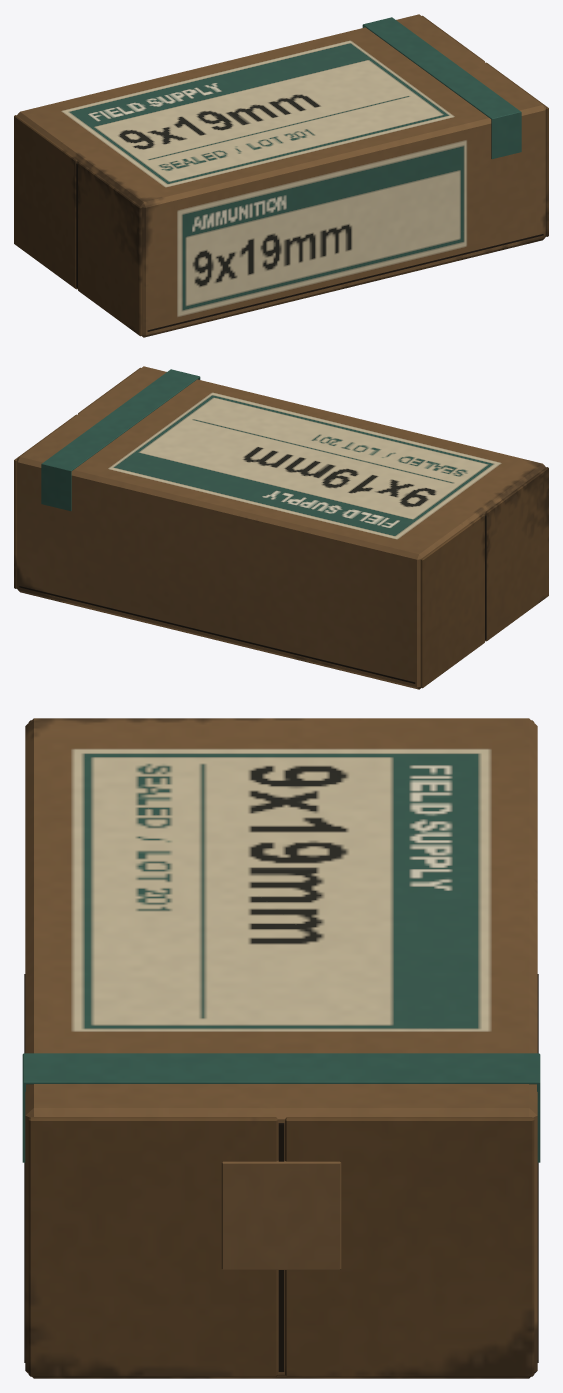
File: ammo_9x19.glb
3 views of the same model, one above another, from view 1: azimuth 30°, elevation 25°; view 2: azimuth 150°, elevation 25°; view 3: azimuth 270°, elevation 25° (orthographic). The views are drawn at different scales.
Visible parts, largest first — view 1: ammo_9x19_Mesh; view 2: ammo_9x19_Mesh; view 3: ammo_9x19_Mesh.
Part boxes in pixels (left/top/right/bottom): ammo_9x19_Mesh: left=14, top=14, right=548, bottom=337; ammo_9x19_Mesh: left=14, top=366, right=548, bottom=689; ammo_9x19_Mesh: left=22, top=718, right=540, bottom=1378.
Size of what is drawn, in the model's own units: 0.111 by 0.0353 by 0.0606.
1 material, 1 textured.
